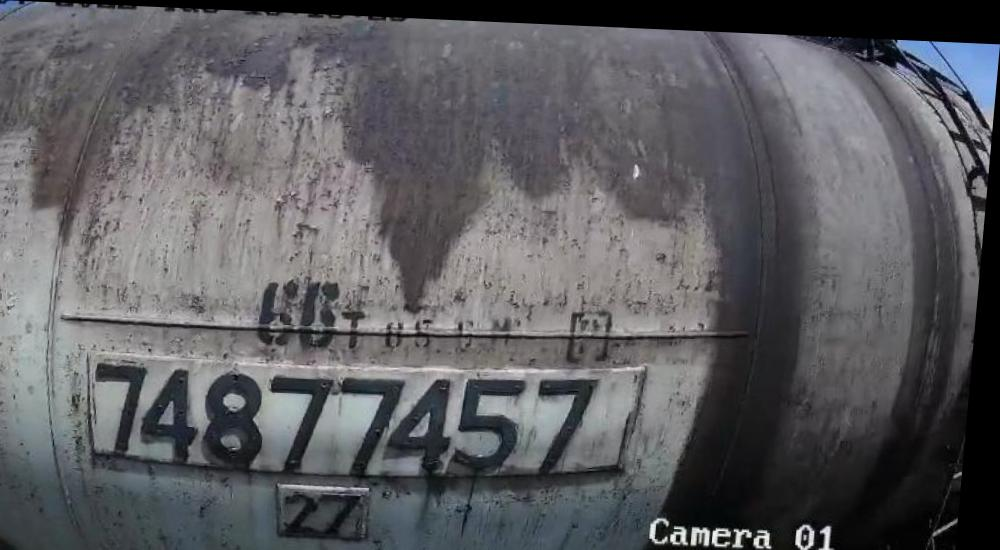Wagon-number: (93, 350, 606, 477)
